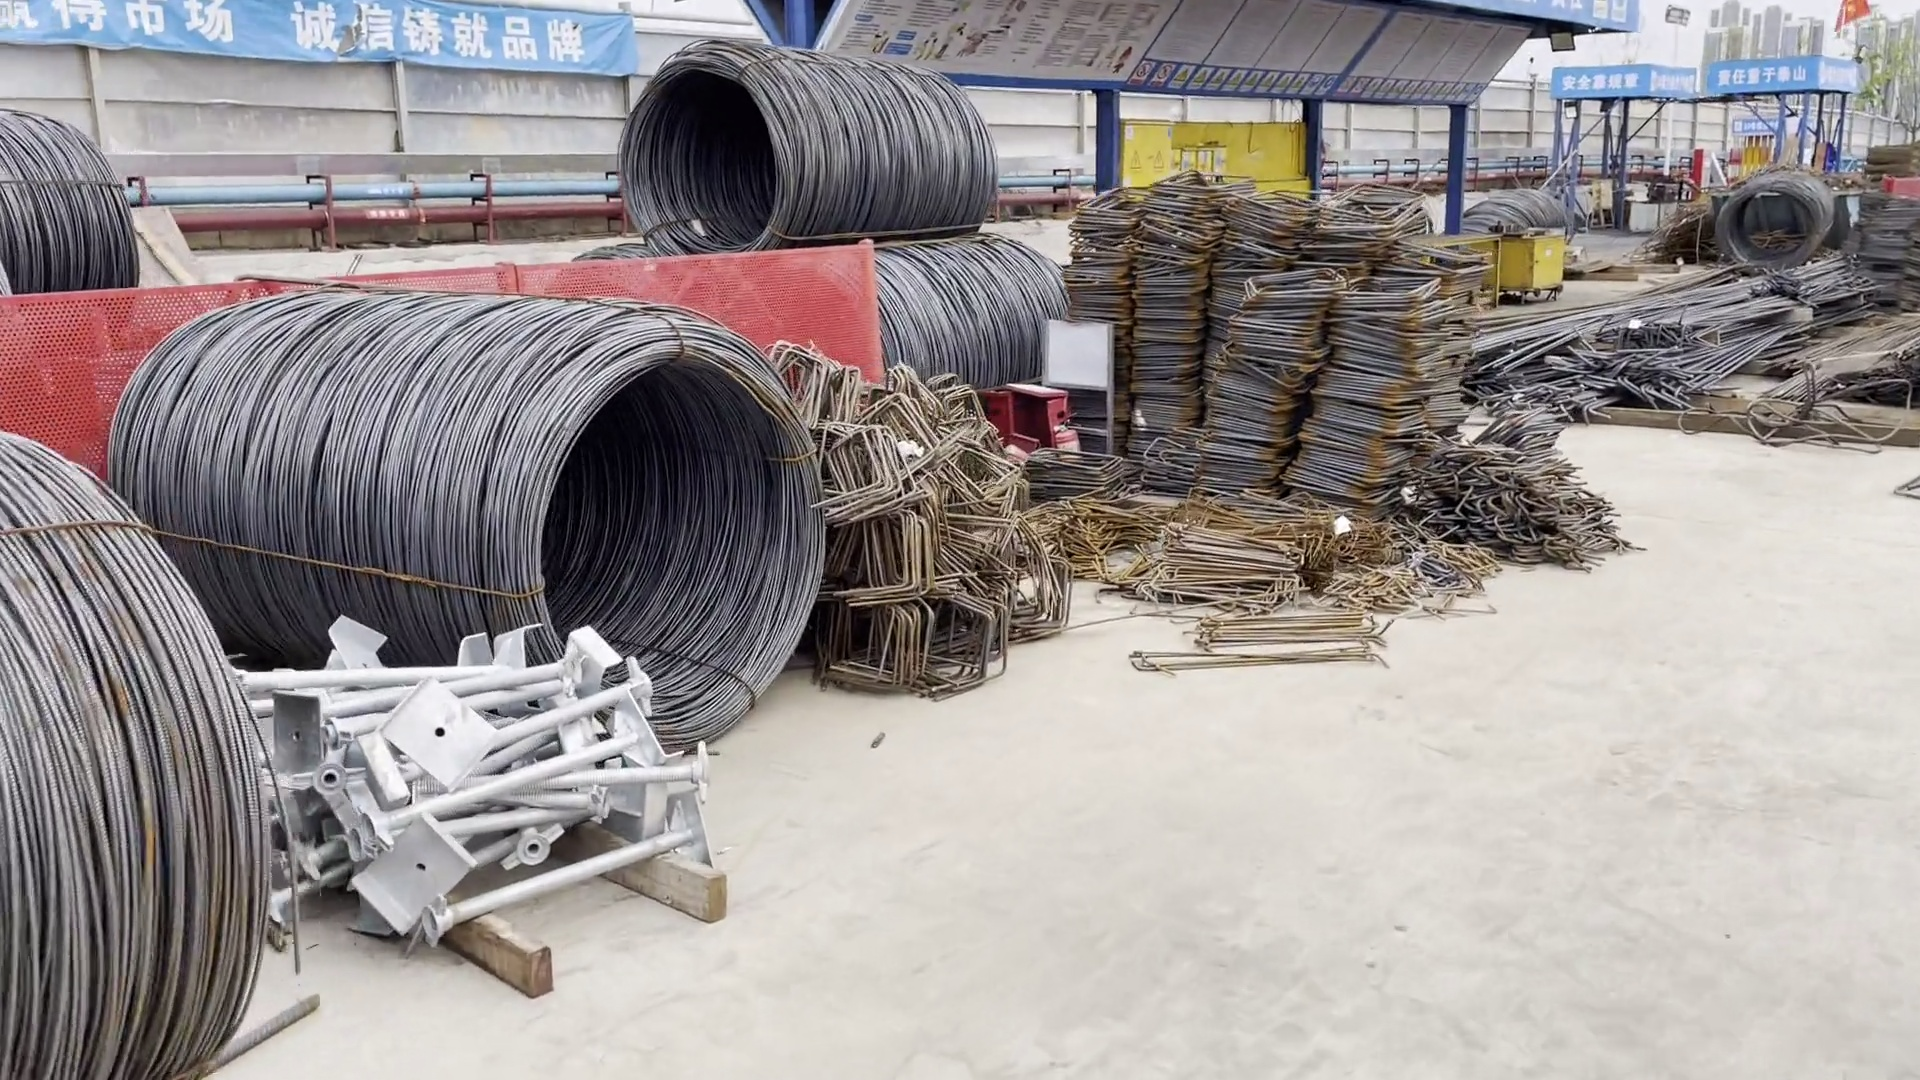ebox: (1110, 120, 1175, 200)
rebar: (1474, 251, 1894, 404)
slogan: (1, 1, 563, 58)
